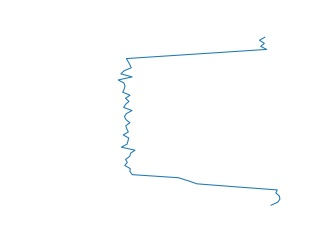distributaryChannelFill: (113, 38, 287, 206)
